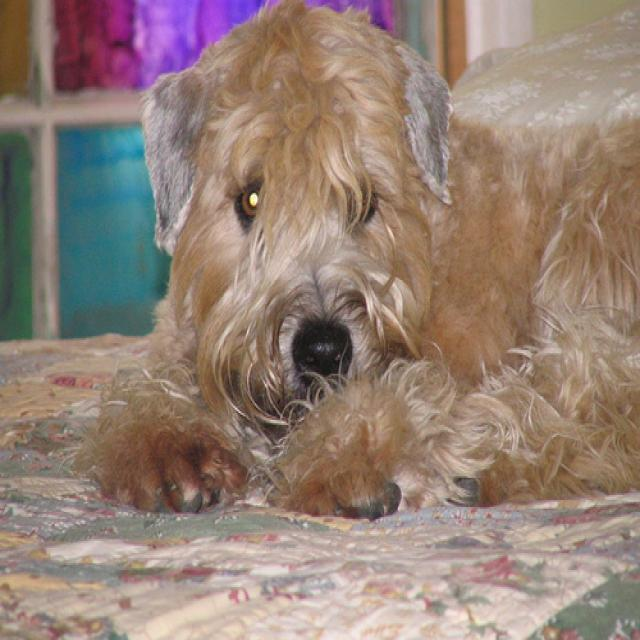dog-wheaten_terrier: (84, 2, 637, 522)
